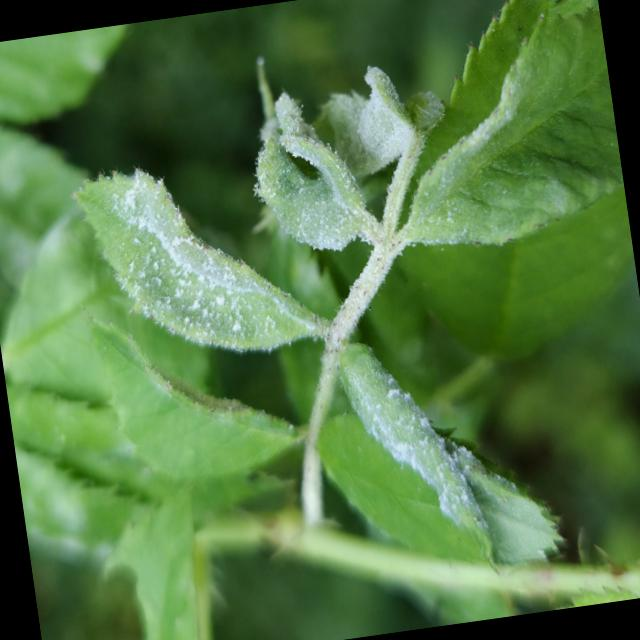powdery_mildew: (77, 171, 327, 350), (341, 344, 491, 560), (257, 94, 377, 250)
